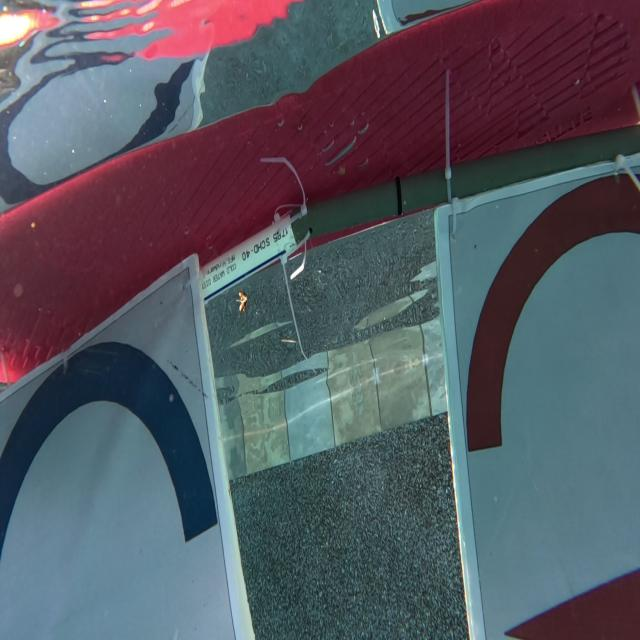blue_side: (0, 347, 221, 639)
red_side: (455, 170, 640, 640)
